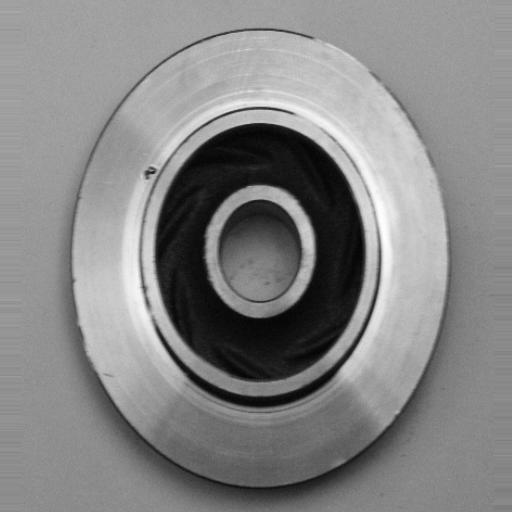crack: (132, 161, 167, 185)
unpolished_casting: (68, 26, 453, 495)
